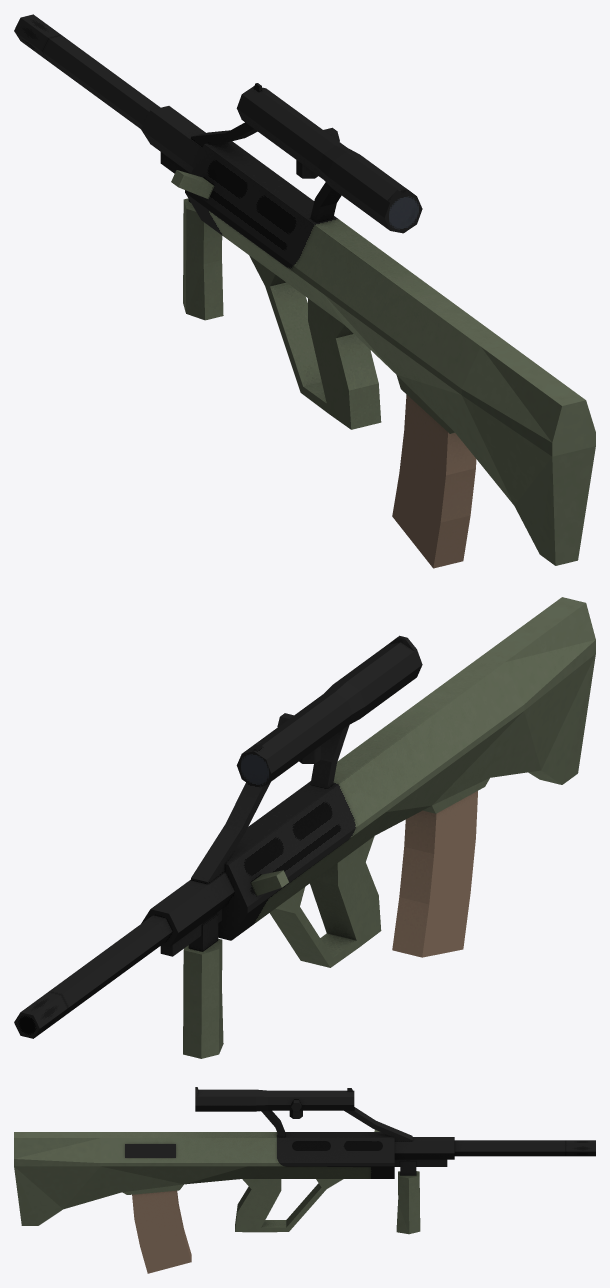
File: army_rifle.gltf
The picture shows the model from 3 angles, top to bottom: view 1: azimuth 30°, elevation 25°; view 2: azimuth 150°, elevation 25°; view 3: azimuth 270°, elevation 25°; orthographic projection. The views are drawn at different scales.
Parts seen in each view (by area): view 1: gun; view 2: gun; view 3: gun.
Boxes of the visible parts, left/top/right/bottom form: gun: left=14, top=14, right=595, bottom=568; gun: left=14, top=597, right=595, bottom=1058; gun: left=14, top=1087, right=595, bottom=1273.
Size of the model in its own units: 0.0181 by 0.0681 by 0.1975.
1 material, 1 textured.
